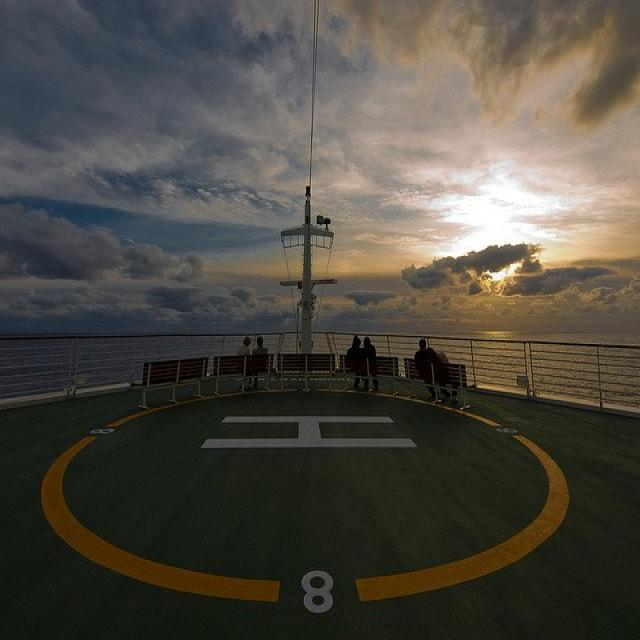helipad: (31, 382, 571, 610)
